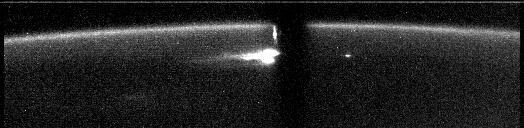positive: (271, 22, 277, 44)
